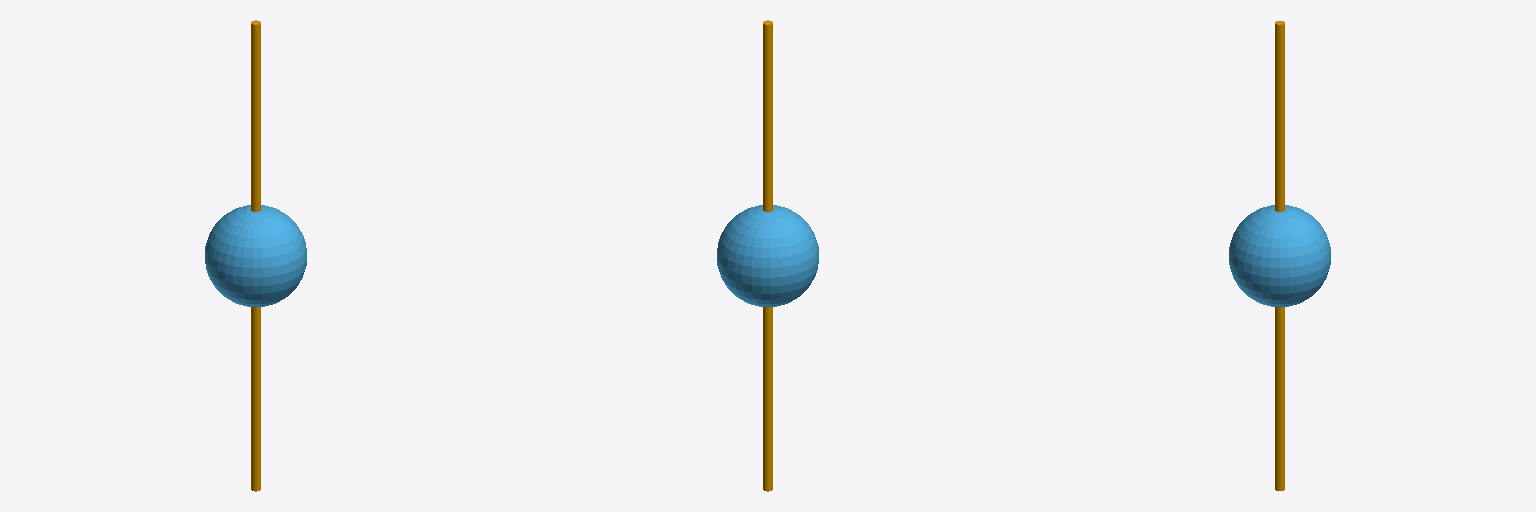
The robot description file, URDF, robot "cylinder":
<?xml version="1.0"?>
<robot name="cylinder">
  <link name="base_link">
    <visual>
      <geometry>
        <cylinder length="1" radius="0.01"/>
      </geometry>
    </visual>
    <collision>
      <geometry>
        <cylinder length="1" radius="0.01"/>
      </geometry>
    </collision>
    <inertial>
        <origin rpy="0 0 0" xyz="0 0 0" />
        <mass value="1" />
        <inertia ixx="1" ixy="0" ixz="0" iyy="1" iyz="0" izz="1" />
  </inertial>
  </link>

  <link name="link1">
    <visual>
      <geometry>
        <sphere radius="0.1"/>
      </geometry>
    <material name="transparent"/>
    </visual>
    <collision>
      <geometry>
        <sphere radius="0.01"/>
      </geometry>
    </collision>
    <inertial>
        <origin rpy="0 0 0" xyz="0 0 0" />
        <mass value="1" />
        <inertia ixx="1" ixy="0" ixz="0" iyy="1" iyz="0" izz="1" />
    </inertial>
  </link>

  <joint name="translationY" type="prismatic">
    <parent link="base_link"/>
    <child link="link1"/>
    <origin rpy="0 0 0" xyz="0 0 0"/>
	<axis xyz="0 0 -1"/>
    <limit effort="10000" lower="-1000" upper="1000.0" velocity="1"/>
  </joint>


</robot>

--- What the picture shows (computed from the rendered views, not written in the file) ---
The picture shows the robot from 3 angles, left to right: view 1: azimuth 30°, elevation 25°; view 2: azimuth 150°, elevation 25°; view 3: azimuth 270°, elevation 25°; orthographic projection.
Model cylinder with 2 links and 1 joints (1 prismatic), rooted at base_link, posed all joints at 0.
Links seen in each view (by area): view 1: link1, base_link; view 2: link1, base_link; view 3: link1, base_link.
Boxes of the visible links, left/top/right/bottom form: link1: left=205, top=205, right=306, bottom=306; base_link: left=251, top=20, right=260, bottom=491; link1: left=717, top=205, right=818, bottom=306; base_link: left=763, top=20, right=772, bottom=491; link1: left=1229, top=205, right=1330, bottom=306; base_link: left=1275, top=21, right=1284, bottom=490.
Bounding box of the posed robot: 0.2 × 0.2 × 1 m (x, y, z).
Geometry: primitives only (box / cylinder / sphere), no mesh files.